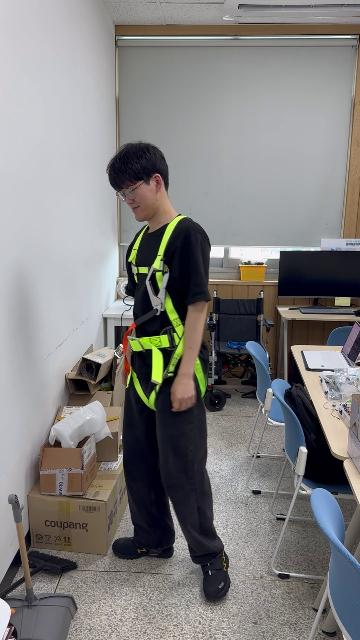helmet_not_worn: (106, 138, 176, 202)
shoe_worn: (198, 549, 231, 601), (112, 537, 174, 560)
vest_worn: (122, 226, 206, 403)
